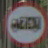Heavy Vehicles: (6, 5, 47, 43)
